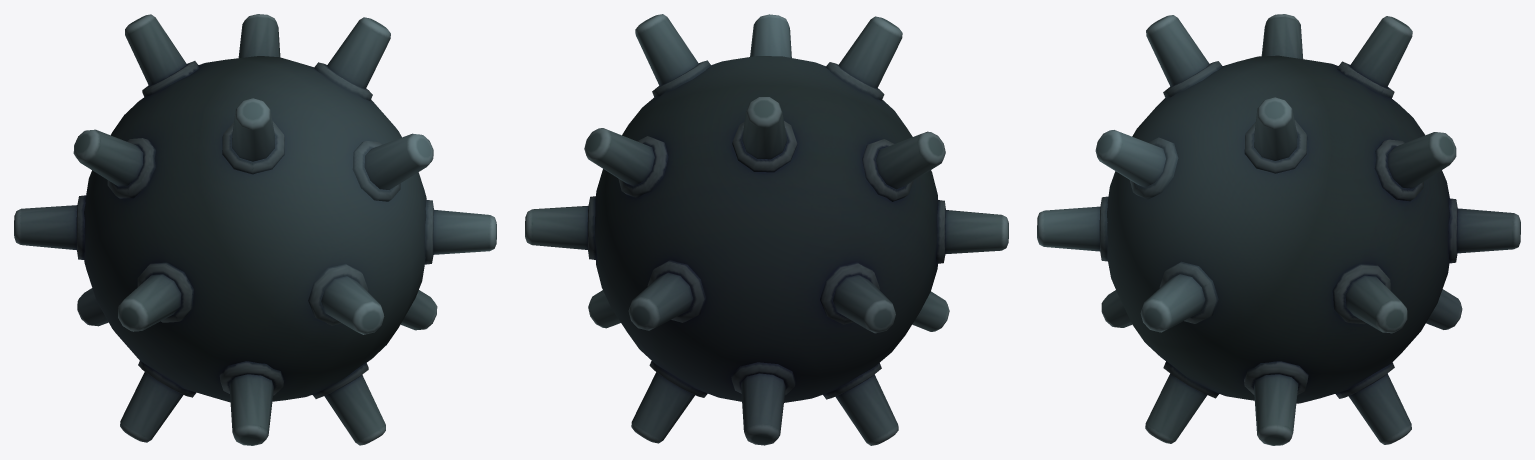
The model's file is sea_bomb.fbx.
3 views of the same model, side by side, from view 1: azimuth 30°, elevation 25°; view 2: azimuth 150°, elevation 25°; view 3: azimuth 270°, elevation 25° (orthographic).
Parts seen in each view (by area): view 1: sea_bomb; view 2: sea_bomb; view 3: sea_bomb.
Boxes of the visible parts, left/top/right/bottom form: sea_bomb: left=14, top=14, right=496, bottom=445; sea_bomb: left=525, top=14, right=1008, bottom=445; sea_bomb: left=1037, top=14, right=1520, bottom=445.
Bounding box in the file's own units: 126 × 119 × 140.
Materials: 1 (1 with a texture image).
